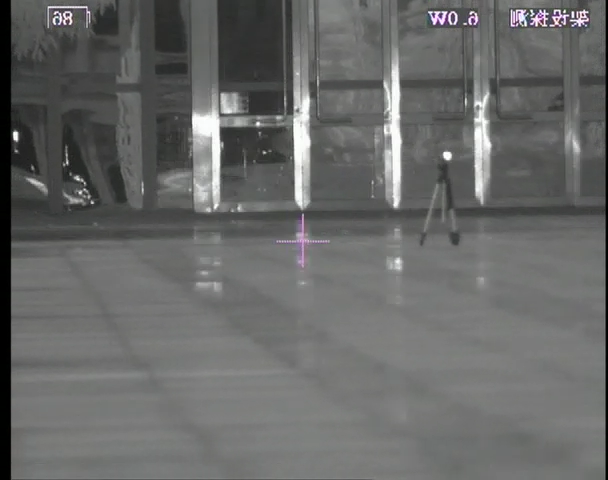my: (441, 150, 453, 162)
